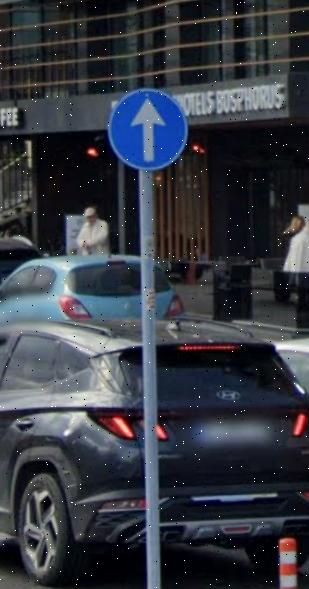forward: (109, 92, 187, 170)
